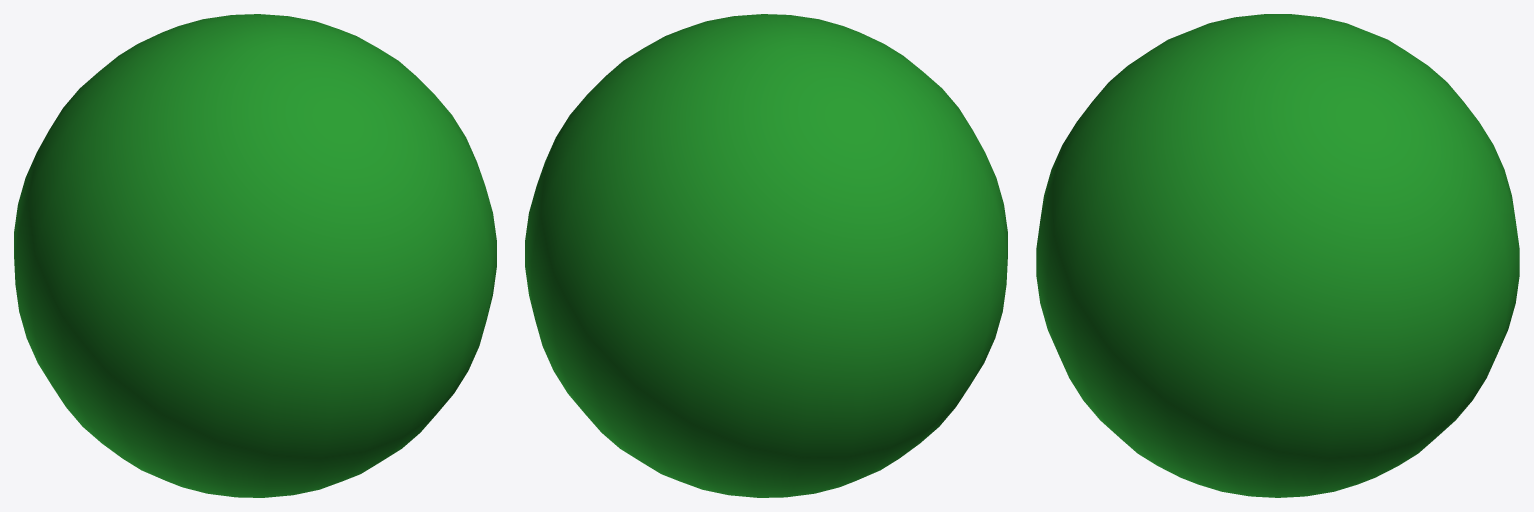
Rendered from ball3.obj.
3 renders of one model, left to right at view 1: azimuth 30°, elevation 25°; view 2: azimuth 150°, elevation 25°; view 3: azimuth 270°, elevation 25°, orthographic.
Parts seen in each view (by area): view 1: pSphere1; view 2: pSphere1; view 3: pSphere1.
Boxes of the visible parts, bbox=[...] form: pSphere1: bbox=[14, 14, 496, 497]; pSphere1: bbox=[525, 14, 1007, 497]; pSphere1: bbox=[1036, 14, 1519, 497].
Bounding box in the file's own units: 1.99 × 2 × 1.99.
Materials: 1 (1 with a texture image).
